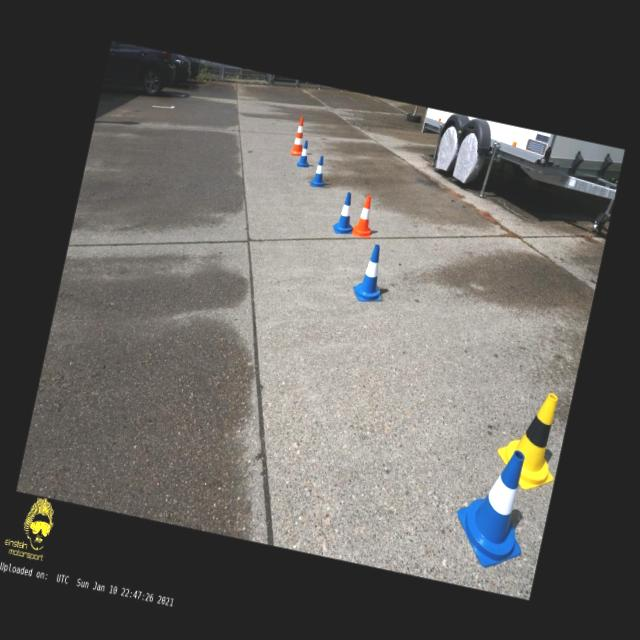blue_cone: (447, 441, 541, 573), (351, 242, 392, 304), (332, 190, 359, 236), (310, 154, 330, 188), (296, 140, 312, 168)
large_orange_cone: (290, 115, 308, 155)
orange_cone: (350, 193, 378, 238)
yellow_cone: (490, 386, 570, 494)
